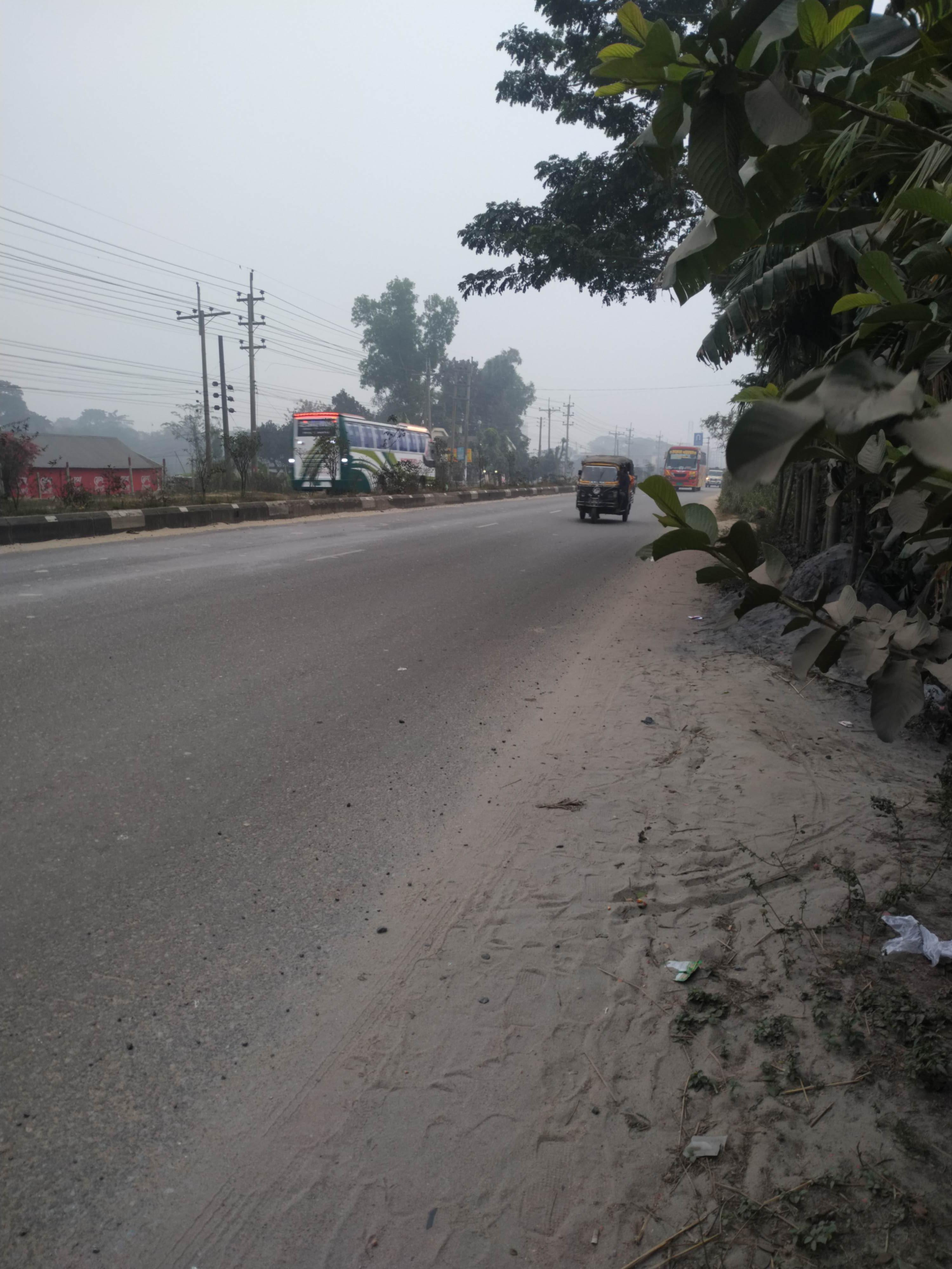Bus: (280, 395, 452, 501), (656, 435, 719, 496)
